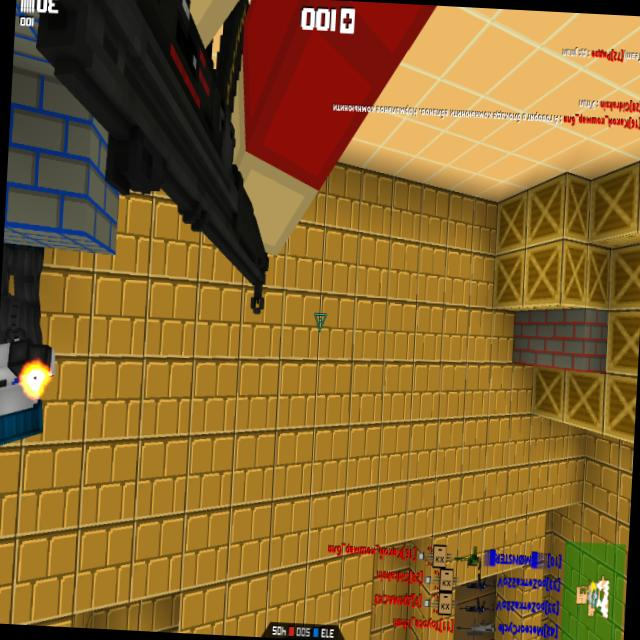enemy: (0, 243, 63, 458)
